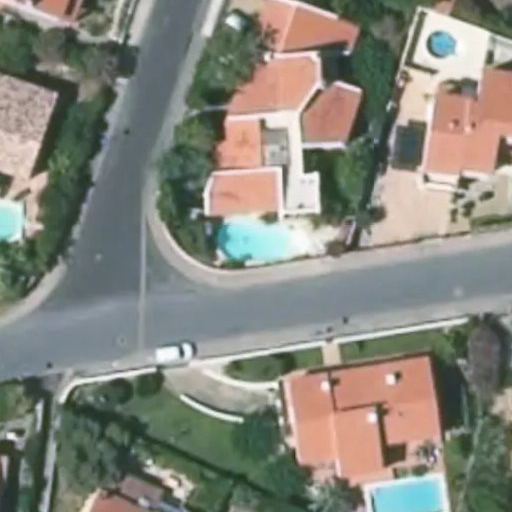pool: (221, 216, 295, 264), (366, 482, 443, 512), (426, 30, 455, 59), (1, 206, 21, 241)
